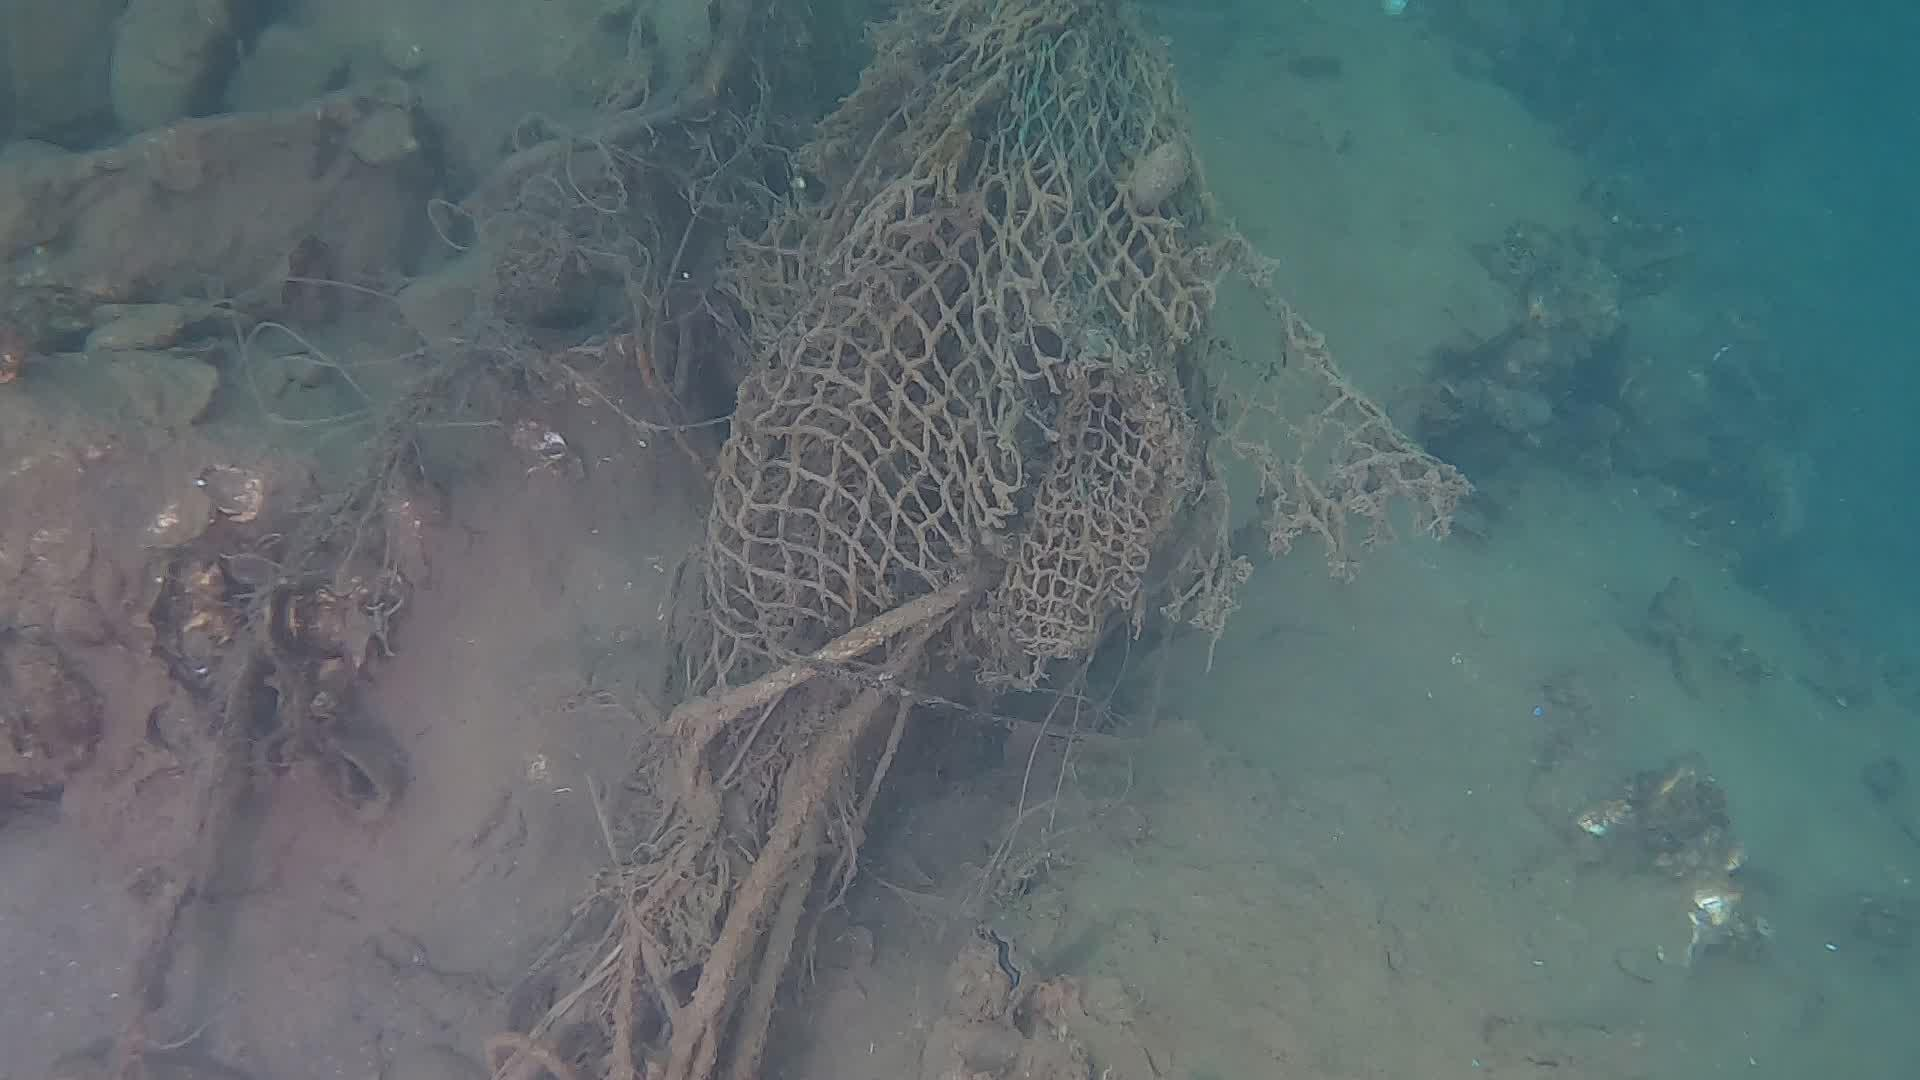fish net: (702, 0, 1203, 671)
